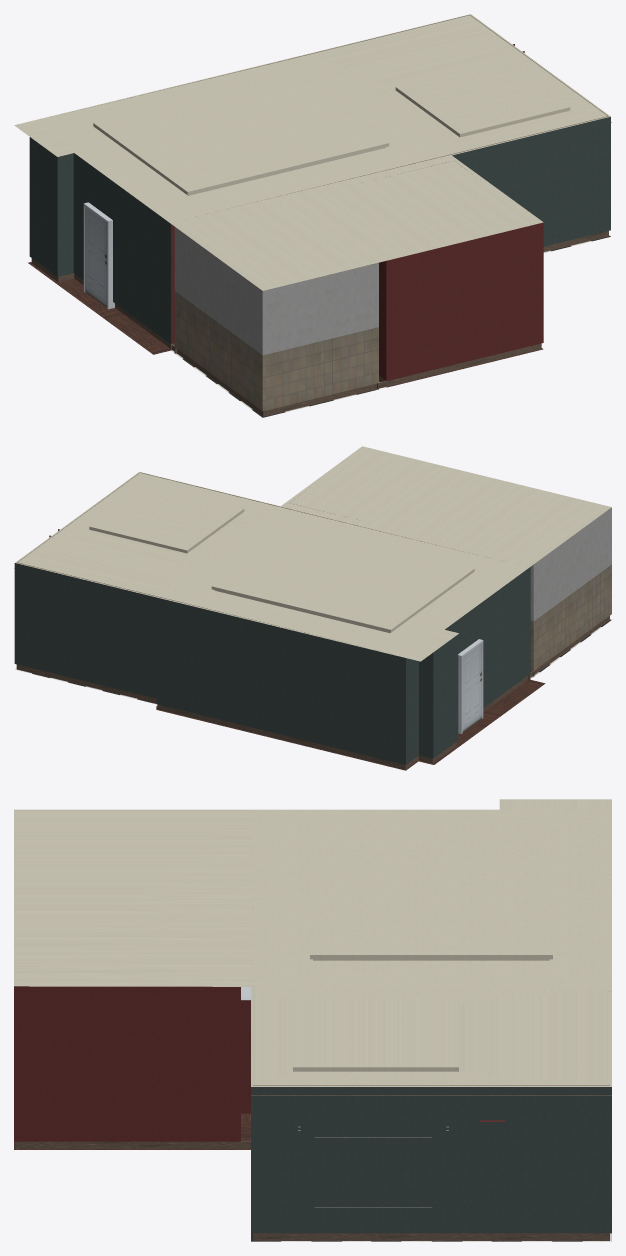
The model's file is llApartment.fbx.
3 views of the same model, one above another, from view 1: azimuth 30°, elevation 25°; view 2: azimuth 150°, elevation 25°; view 3: azimuth 270°, elevation 25° (orthographic). The views are drawn at different scales.
Visible parts, largest first — view 1: apartmentCeiling, apartmentWalls, apartmentBathroom, apartmentBedroom, apartmentBaseboard.001, apartmentFloor, apartmentDoor.002, apartmentDoorFrame.002, apartmentBaseboard.002; view 2: apartmentCeiling, apartmentWalls, apartmentBathroom, apartmentBaseboard.001, apartmentFloor, apartmentDoor.002, apartmentDoorFrame.002, apartmentBaseboard.002; view 3: apartmentCeiling, apartmentWalls, apartmentBedroom, apartmentBaseboard.001, apartmentlivingRoomWall, apartmentFloor, apartmentBaseboard.002.
Boxes of the visible parts, left/top/right/bottom form: apartmentCeiling: left=14, top=14, right=610, bottom=290; apartmentWalls: left=29, top=116, right=610, bottom=343; apartmentBathroom: left=174, top=227, right=378, bottom=411; apartmentBedroom: left=379, top=222, right=543, bottom=381; apartmentBaseboard.001: left=31, top=231, right=608, bottom=416; apartmentFloor: left=28, top=235, right=610, bottom=417; apartmentDoor.002: left=85, top=207, right=106, bottom=306; apartmentDoorFrame.002: left=83, top=202, right=114, bottom=309; apartmentBaseboard.002: left=109, top=15, right=611, bottom=201; apartmentCeiling: left=15, top=446, right=611, bottom=661; apartmentWalls: left=14, top=563, right=530, bottom=764; apartmentBathroom: left=530, top=507, right=611, bottom=671; apartmentBaseboard.001: left=16, top=616, right=609, bottom=769; apartmentFloor: left=15, top=619, right=611, bottom=770; apartmentDoor.002: left=462, top=643, right=482, bottom=731; apartmentDoorFrame.002: left=458, top=639, right=483, bottom=733; apartmentBaseboard.002: left=14, top=472, right=451, bottom=636; apartmentCeiling: left=14, top=799, right=611, bottom=1086; apartmentWalls: left=251, top=1087, right=611, bottom=1233; apartmentBedroom: left=14, top=986, right=240, bottom=1141; apartmentBaseboard.001: left=16, top=1141, right=609, bottom=1240; apartmentlivingRoomWall: left=241, top=1000, right=250, bottom=1113; apartmentFloor: left=14, top=1113, right=611, bottom=1241; apartmentBaseboard.002: left=251, top=991, right=611, bottom=1095.
Size of the model in its own units: 1148 by 315 by 1003.
